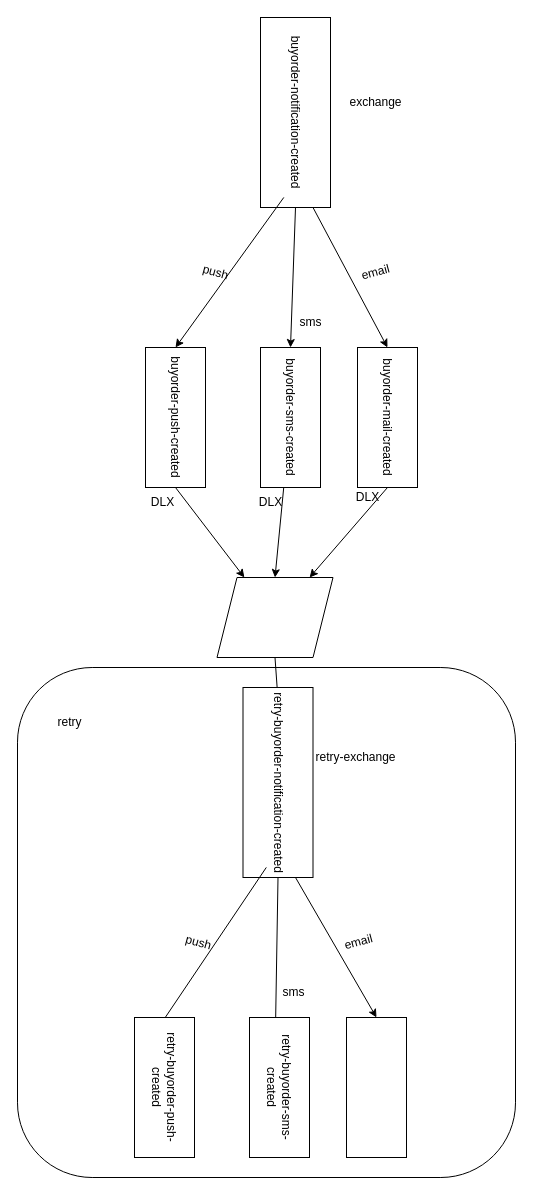
The diagram is 533 pixels wide and 1195 high, and some of its shapes have lost their labels. The centre of each missing label's shape, as x and y in pixels:
"if message failed" belongs at [274,617].
"retry-buyorder-mail-created" belongs at [376,1087].
